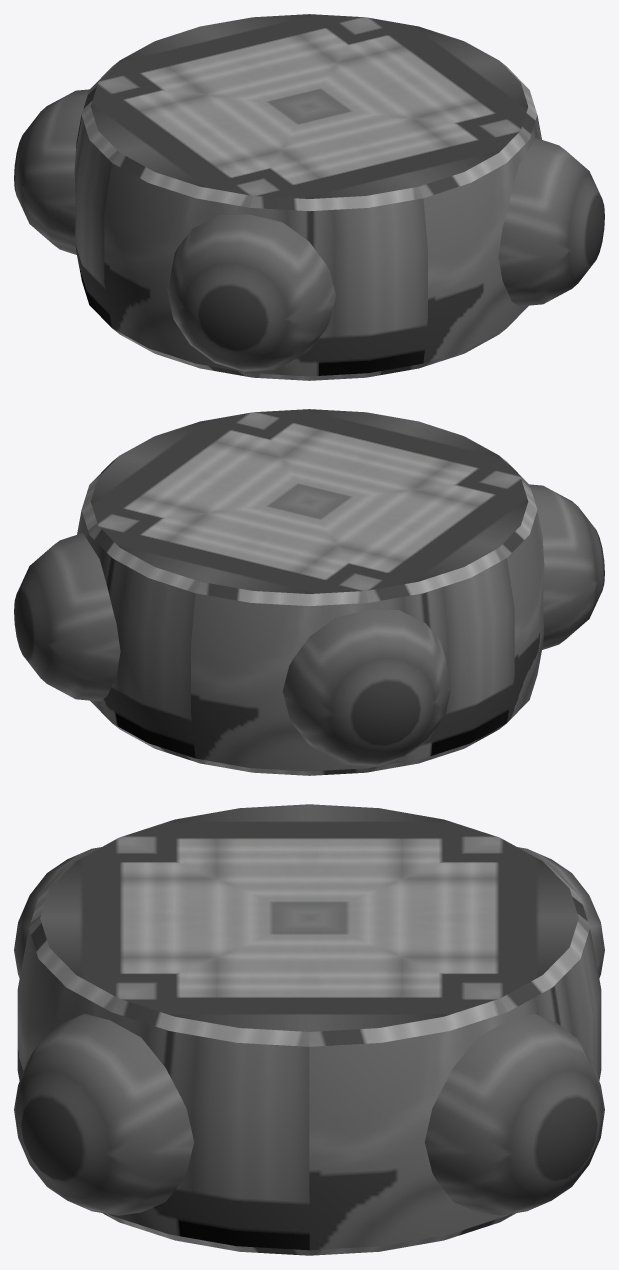
Rendered from libra_monopropellant_tank_s0_1.obj.
3 views of the same model, one above another, from view 1: azimuth 30°, elevation 25°; view 2: azimuth 150°, elevation 25°; view 3: azimuth 270°, elevation 25° (orthographic). The views are drawn at different scales.
Parts seen in each view (by area): view 1: libra_monopropellant_tank_s0_1; view 2: libra_monopropellant_tank_s0_1; view 3: libra_monopropellant_tank_s0_1.
Part boxes in pixels (<box>): libra_monopropellant_tank_s0_1: <box>14,14,604,380</box>; libra_monopropellant_tank_s0_1: <box>14,409,604,775</box>; libra_monopropellant_tank_s0_1: <box>14,804,604,1255</box>.
Bounding box in the file's own units: 0.6582 × 0.275 × 0.6582.
